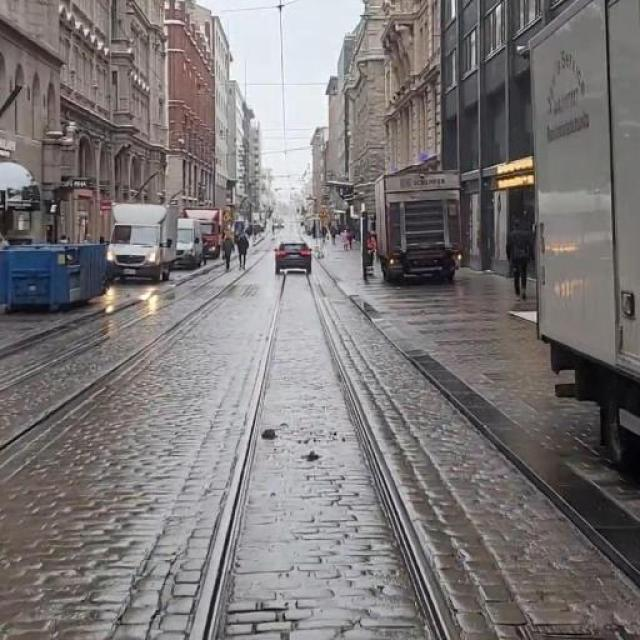people: (501, 212, 534, 298), (234, 228, 252, 270), (221, 230, 235, 270)
vehicle: (368, 164, 482, 290), (100, 195, 182, 285), (272, 233, 318, 276)
